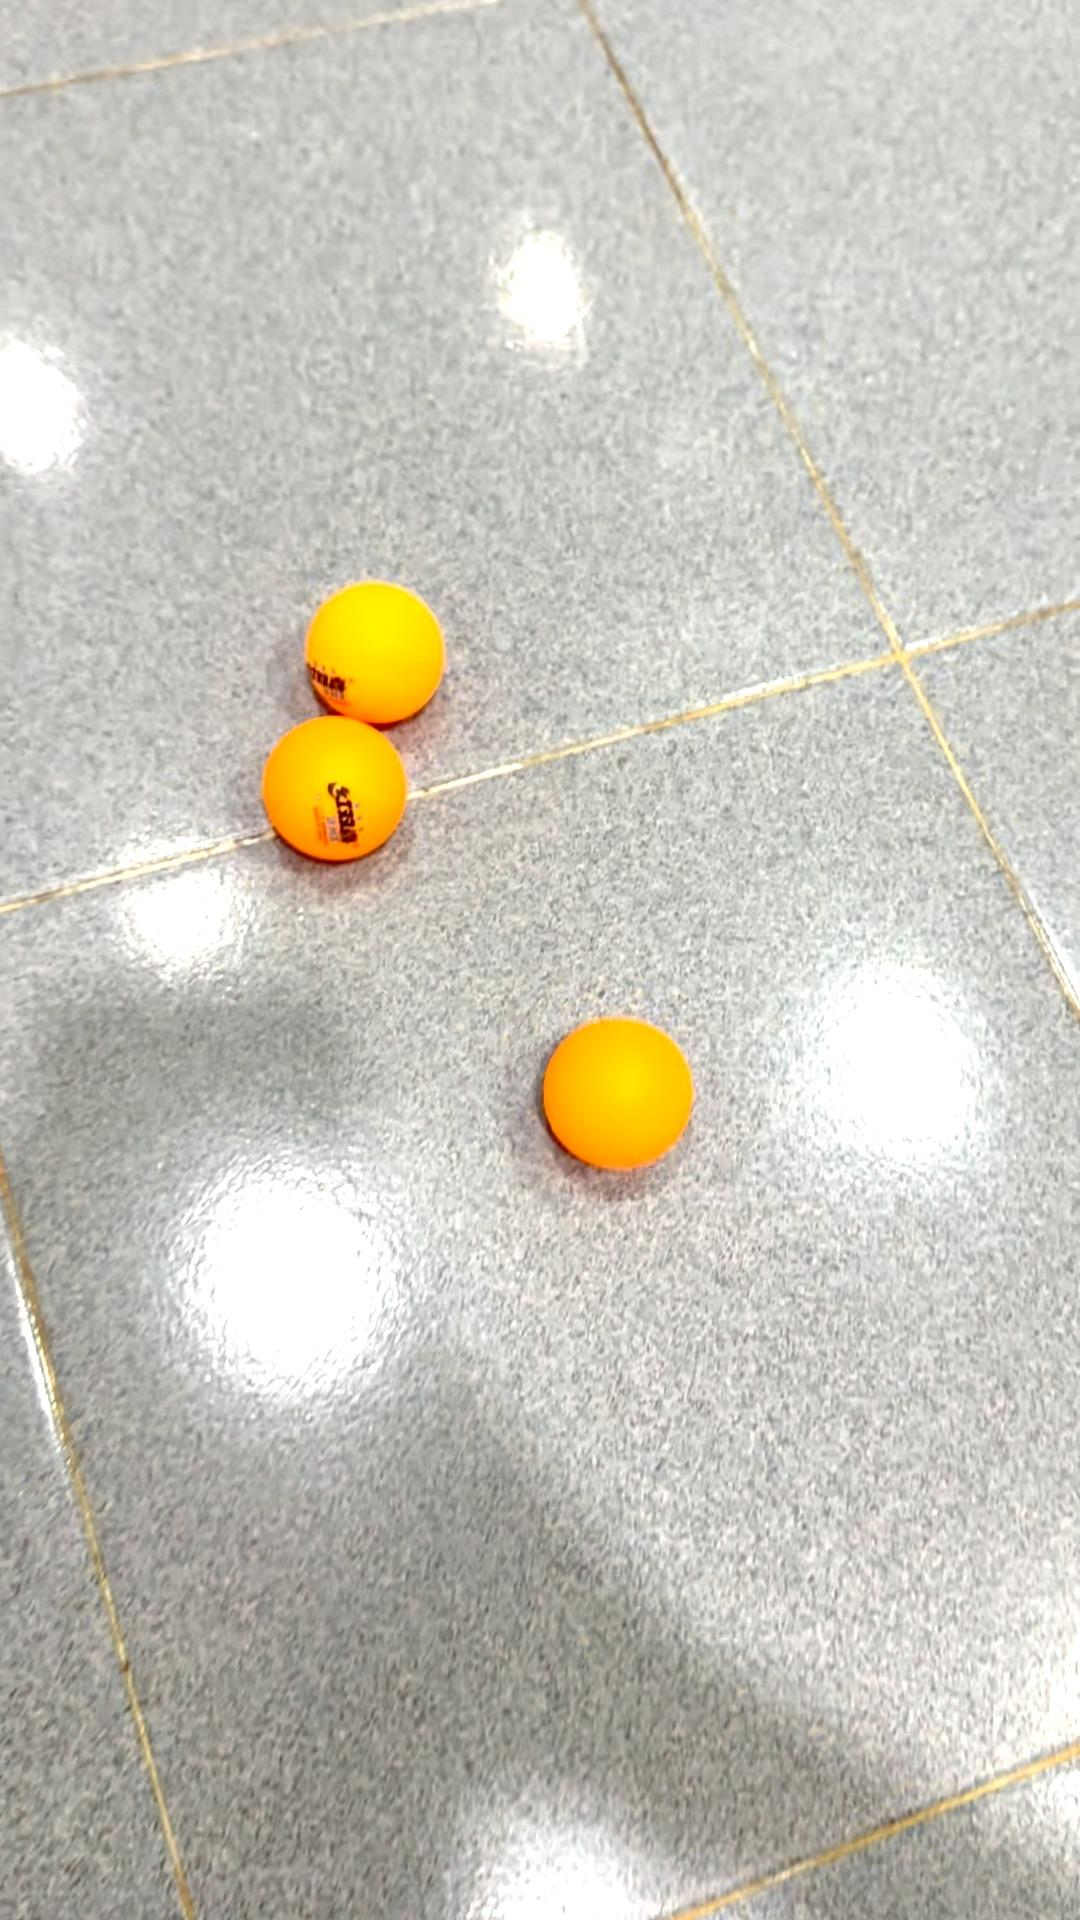oball: (534, 1011, 702, 1184), (301, 578, 452, 727), (265, 717, 406, 866)
